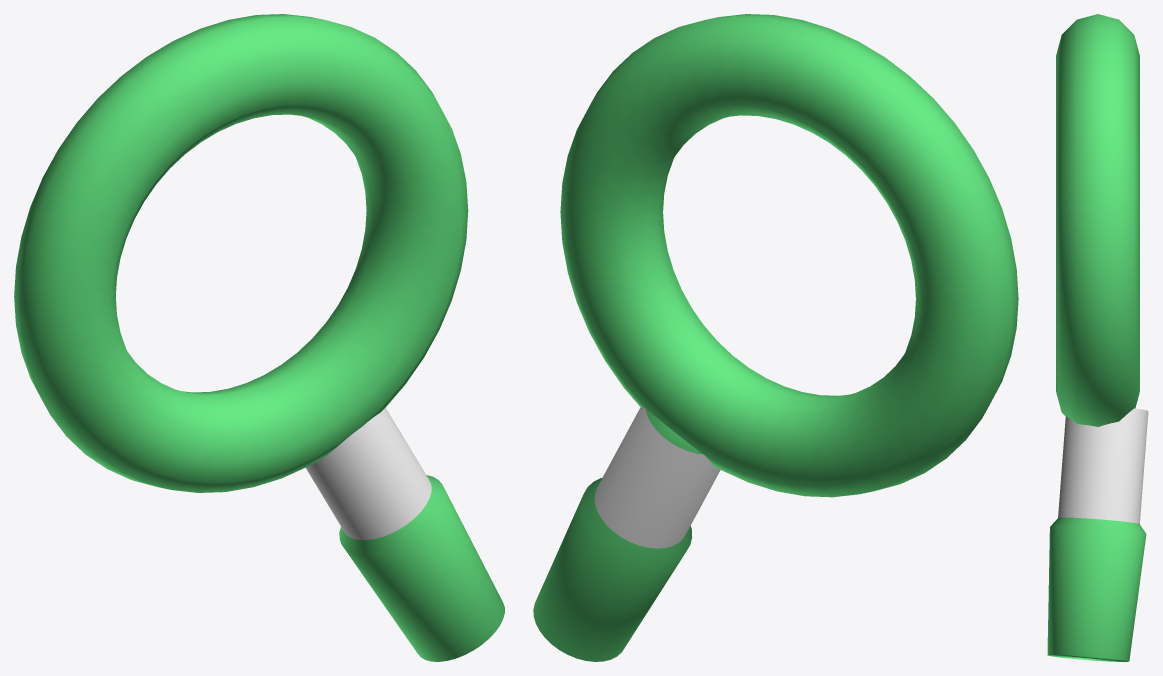
Rendered from search.glb.
3 views of the same model, side by side, from view 1: azimuth 30°, elevation 25°; view 2: azimuth 150°, elevation 25°; view 3: azimuth 270°, elevation 25° (orthographic). The views are drawn at different scales.
Parts seen in each view (by area): view 1: Search; view 2: Search; view 3: Search.
Boxes of the visible parts, <box> form: Search: <box>14,14,504,661</box>; Search: <box>533,14,1018,661</box>; Search: <box>1047,14,1148,661</box>.
Bounding box in the file's own units: 1.36 × 1.86 × 0.3056.
